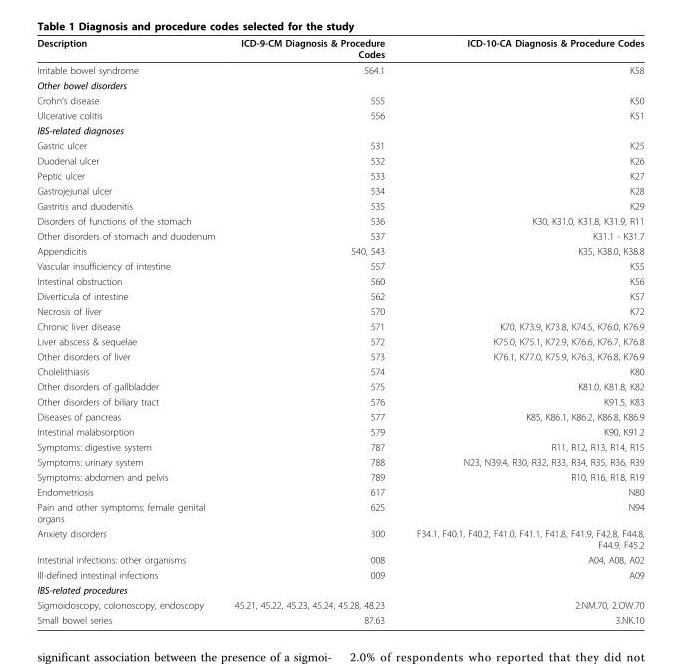table: (36, 36, 643, 625)
table column: (400, 36, 643, 625), (36, 36, 224, 625), (224, 36, 400, 625)
table column header: (36, 36, 643, 61)
table projected row header: (36, 77, 643, 92), (36, 122, 643, 137), (36, 582, 643, 597)
table row: (36, 499, 643, 525), (36, 525, 643, 551), (36, 36, 643, 61), (36, 61, 643, 77), (36, 182, 643, 198), (36, 423, 643, 439), (36, 551, 643, 567), (36, 77, 643, 92), (36, 92, 643, 107), (36, 107, 643, 122), (36, 122, 643, 137), (36, 137, 643, 152), (36, 152, 643, 167), (36, 167, 643, 182), (36, 198, 643, 213), (36, 213, 643, 228), (36, 228, 643, 243), (36, 243, 643, 258), (36, 258, 643, 273), (36, 273, 643, 288), (36, 288, 643, 303), (36, 303, 643, 318), (36, 318, 643, 333), (36, 333, 643, 348), (36, 348, 643, 363), (36, 363, 643, 378), (36, 378, 643, 393), (36, 393, 643, 408), (36, 408, 643, 423), (36, 439, 643, 454), (36, 454, 643, 469), (36, 469, 643, 484), (36, 484, 643, 499), (36, 567, 643, 582), (36, 582, 643, 597), (36, 597, 643, 612), (36, 612, 643, 625)
